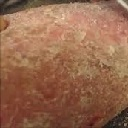Psoriasis: (6, 55, 121, 125)
